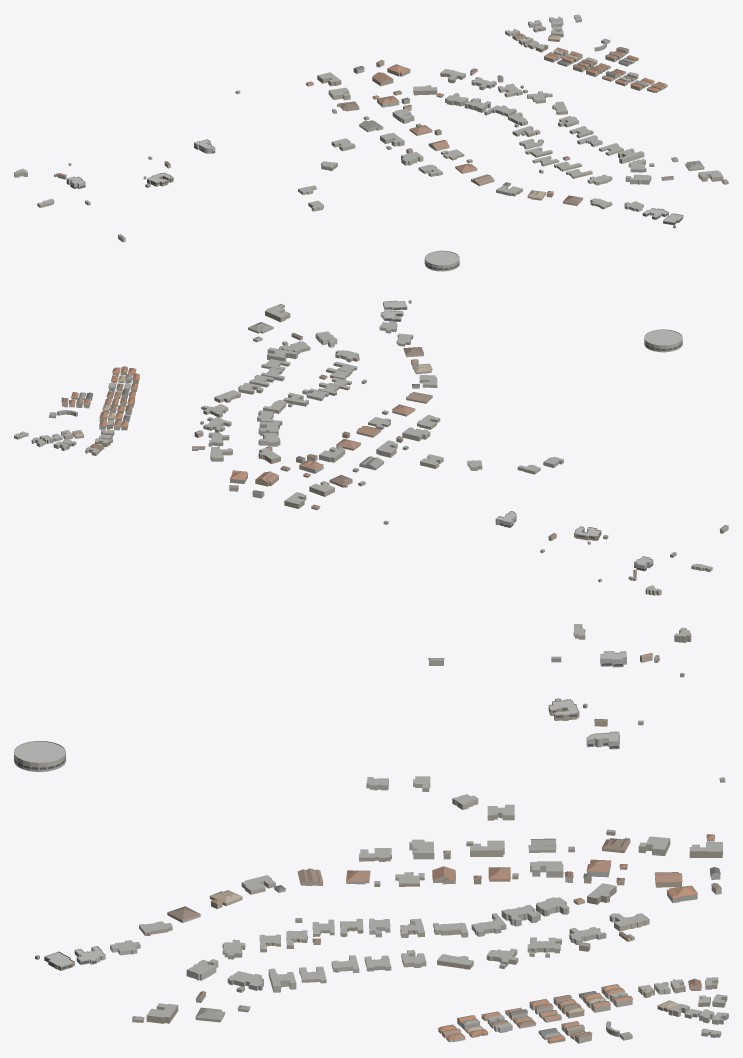
Rendered from buildings_r4_c1.glb.
The picture shows the model from 3 angles, top to bottom: view 1: azimuth 30°, elevation 25°; view 2: azimuth 150°, elevation 25°; view 3: azimuth 270°, elevation 25°; orthographic projection. The views are drawn at different scales.
Parts seen in each view (by area): view 1: buildings_r4_c1; view 2: buildings_r4_c1; view 3: buildings_r4_c1.
Part boxes in pixels (x1=…): buildings_r4_c1: x1=14, y1=14, x2=728, y2=271; buildings_r4_c1: x1=14, y1=300, x2=728, y2=595; buildings_r4_c1: x1=14, y1=624, x2=728, y2=1043.
Bounding box in the file's own units: 1126 × 61.16 × 790.
